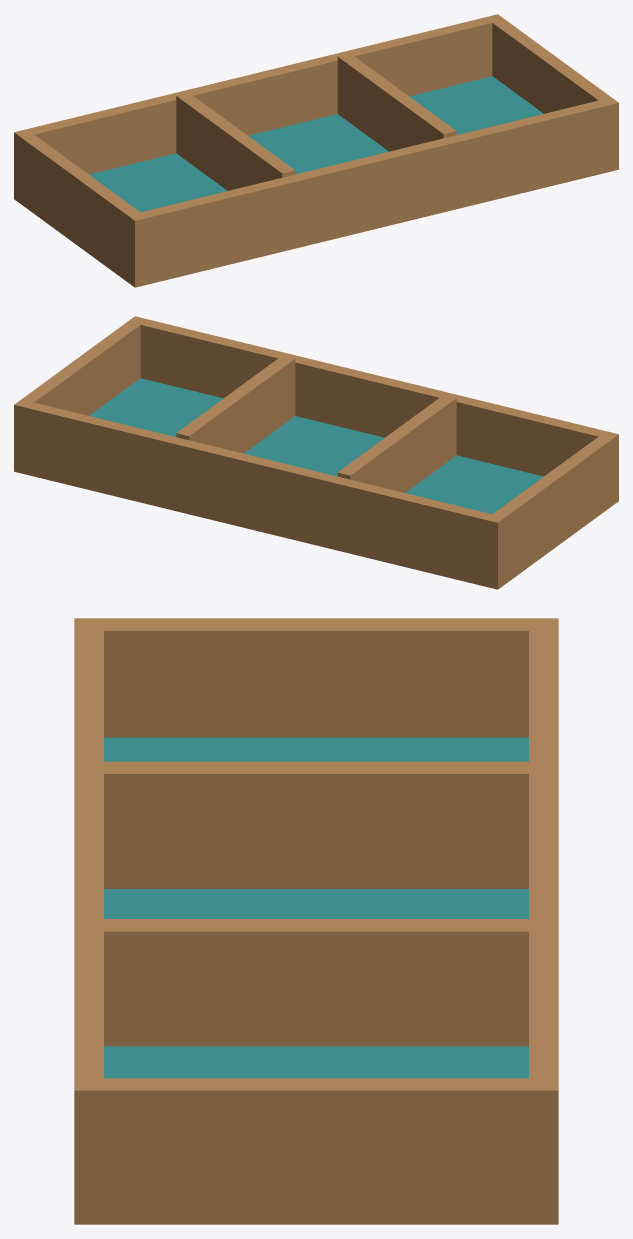
Rendered from tabletop-game-components-three-compartment-tray-a33d04db__20873.glb.
3 renders of one model, top to bottom at view 1: azimuth 30°, elevation 25°; view 2: azimuth 150°, elevation 25°; view 3: azimuth 270°, elevation 25°, orthographic. The views are drawn at different scales.
Visible parts, largest first — view 1: three-compartment-tray; view 2: three-compartment-tray; view 3: three-compartment-tray.
Part boxes in pixels (box(x1,y1,x2,y2)): three-compartment-tray: box(14, 14, 618, 287); three-compartment-tray: box(14, 316, 618, 589); three-compartment-tray: box(74, 618, 558, 1224).
Bounding box in the file's own units: 0.15 × 0.021 × 0.065.
